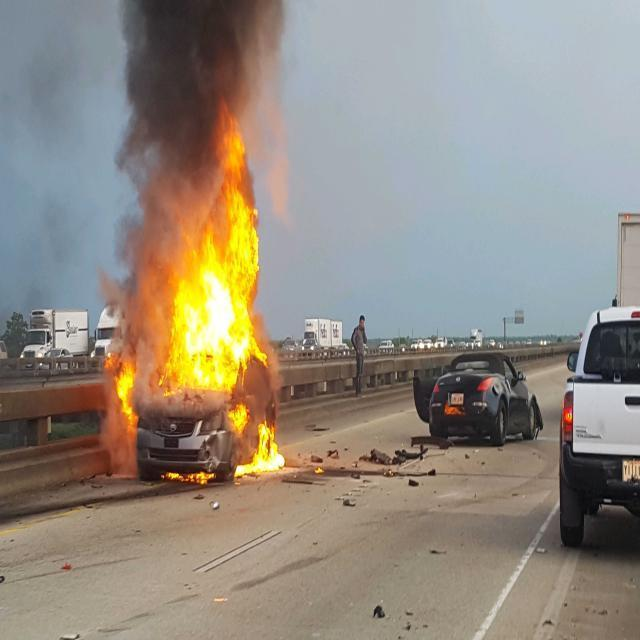Fire: (164, 188, 285, 482), (211, 94, 250, 188), (104, 348, 144, 426)
Smoke: (122, 3, 276, 90), (118, 93, 207, 185), (127, 187, 160, 348)
